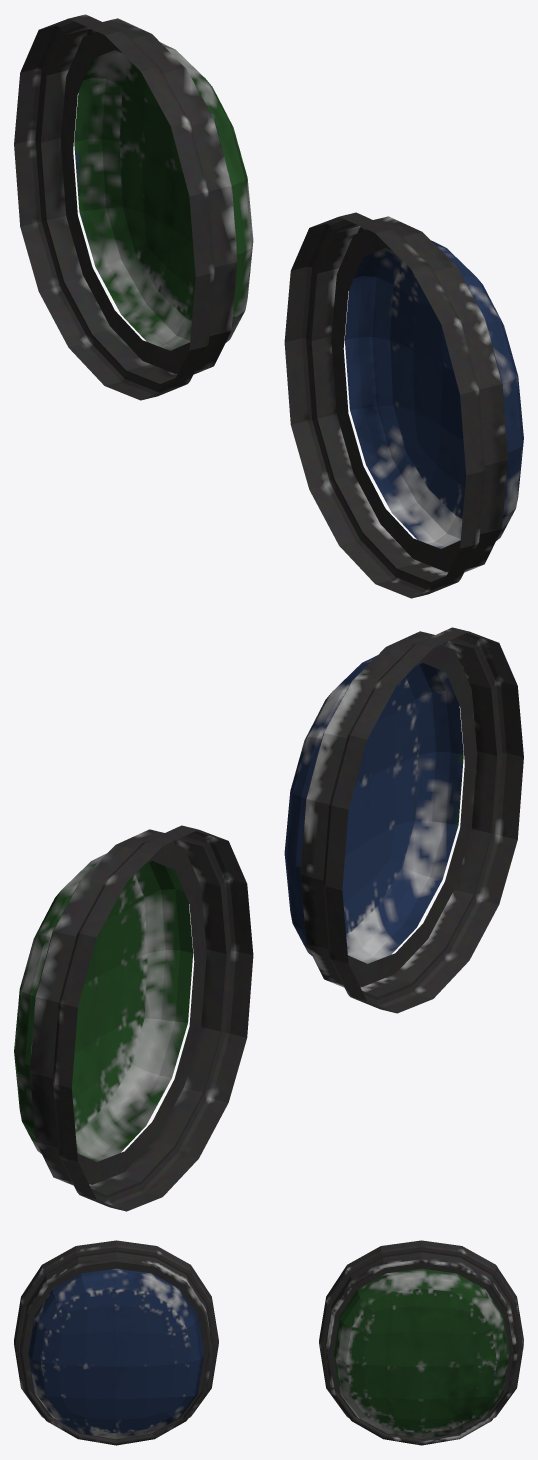
Rendered from _light.fbx.
The picture shows the model from 3 angles, top to bottom: view 1: azimuth 30°, elevation 25°; view 2: azimuth 150°, elevation 25°; view 3: azimuth 270°, elevation 25°; orthographic projection. The views are drawn at different scales.
Parts seen in each view (by area): view 1: _light; view 2: _light; view 3: _light.
Part boxes in pixels (x1,y1,x2,y2): _light: (14, 14, 523, 598); _light: (14, 627, 523, 1211); _light: (14, 1240, 523, 1445).
Bounding box in the file's own units: 3.73 × 12.59 × 29.4.
1 material, 1 textured.
